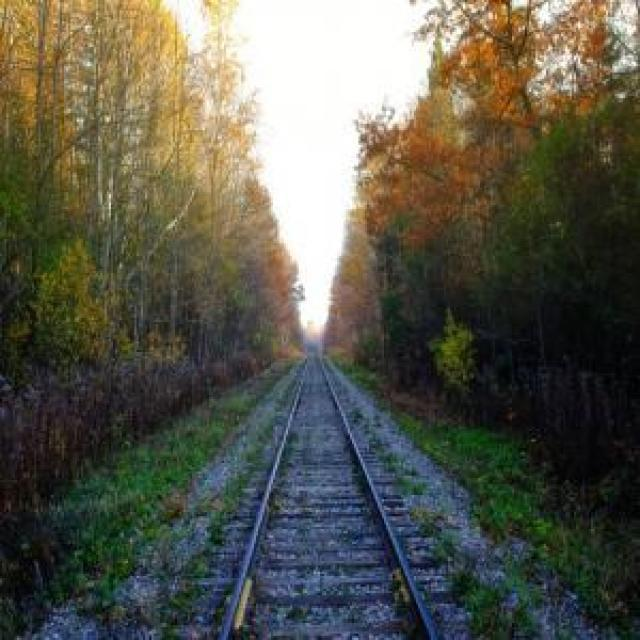rail: (1, 1, 639, 639)
